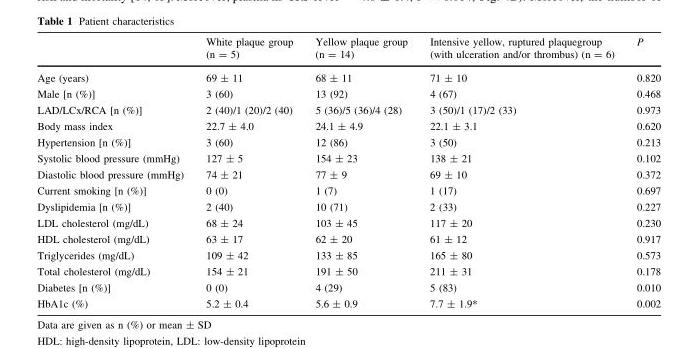table: (36, 36, 660, 308)
table column: (418, 36, 624, 308), (36, 36, 194, 308), (303, 36, 418, 308), (194, 36, 303, 308), (624, 36, 660, 308)
table column header: (36, 36, 660, 66)
table row: (36, 36, 660, 66), (36, 66, 660, 85), (36, 85, 660, 102), (36, 198, 660, 215), (36, 102, 660, 118), (36, 118, 660, 134), (36, 134, 660, 150), (36, 150, 660, 166), (36, 166, 660, 182), (36, 182, 660, 198), (36, 215, 660, 231), (36, 231, 660, 247), (36, 247, 660, 263), (36, 263, 660, 279), (36, 279, 660, 295), (36, 295, 660, 308)
